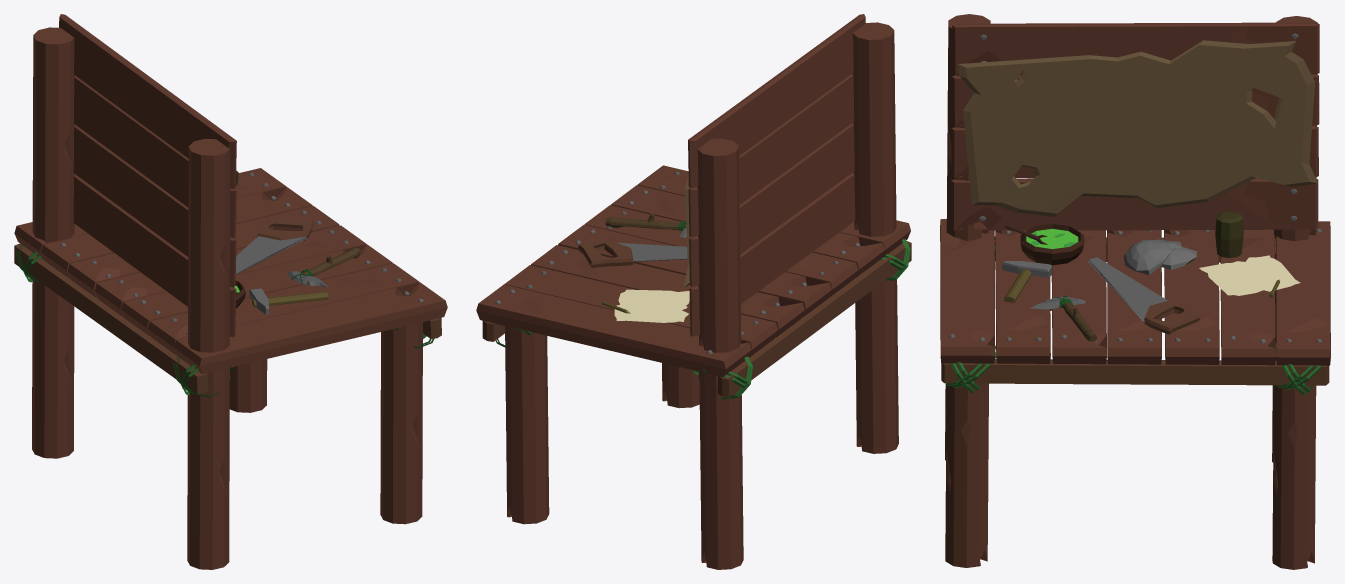
Rendered from workbench.fbx.
3 views of the same model, side by side, from view 1: azimuth 30°, elevation 25°; view 2: azimuth 150°, elevation 25°; view 3: azimuth 270°, elevation 25° (orthographic). The views are drawn at different scales.
Parts seen in each view (by area): view 1: workbench; view 2: workbench; view 3: workbench.
Boxes of the visible parts, x1,y1,x2,y2 form: workbench: (14,14,447,569); workbench: (476,14,911,569); workbench: (940,14,1330,569).
Size of the model in its own units: 406 by 638 by 505.
